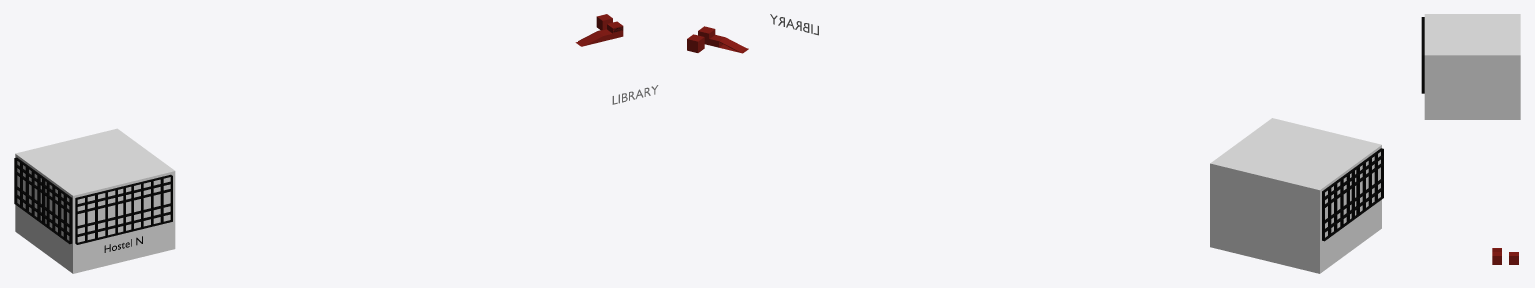
Rendered from library 1.fbx.
The picture shows the model from 3 angles, left to right: view 1: azimuth 30°, elevation 25°; view 2: azimuth 150°, elevation 25°; view 3: azimuth 270°, elevation 25°; orthographic projection. The views are drawn at different scales.
Parts seen in each view (by area): view 1: Cube.003, Cube.004, Cube.005, Cube; view 2: Cube.003, Cube.005, Cube; view 3: Cube.003, Cube.004, Cube, Cube.001.
Boxes of the visible parts, left/top/right/bottom form: Cube.003: left=15, top=128, right=175, bottom=273; Cube.004: left=75, top=174, right=172, bottom=244; Cube.005: left=14, top=157, right=72, bottom=244; Cube: left=575, top=21, right=623, bottom=46; Cube.003: left=1210, top=118, right=1381, bottom=273; Cube.005: left=1322, top=148, right=1383, bottom=241; Cube: left=698, top=26, right=748, bottom=53; Cube.003: left=1424, top=14, right=1520, bottom=119; Cube.004: left=1421, top=17, right=1424, bottom=93; Cube: left=1492, top=248, right=1501, bottom=264; Cube.001: left=1509, top=252, right=1518, bottom=264.
Bounding box in the file's own units: 7455 × 937 × 1422.
